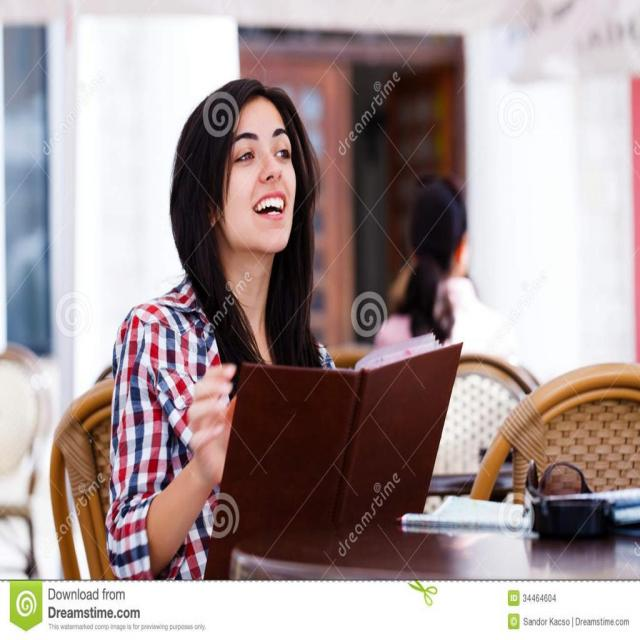nomask: (221, 95, 299, 248)
